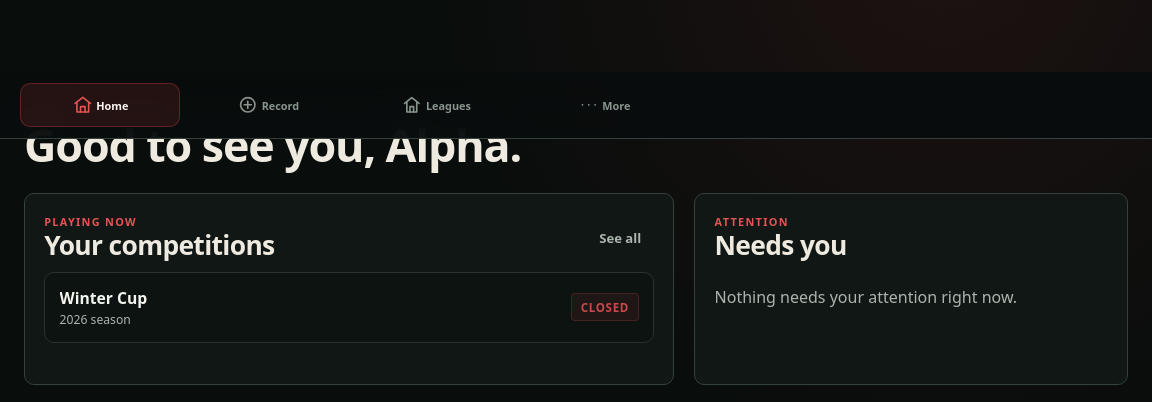
Test: club-first Record › shows a contextual empty Record state when no open assignment is eligible
Click the button "Record". click: {"x": 268, "y": 105}
box: top-left (188, 83), bottom-right (348, 127)
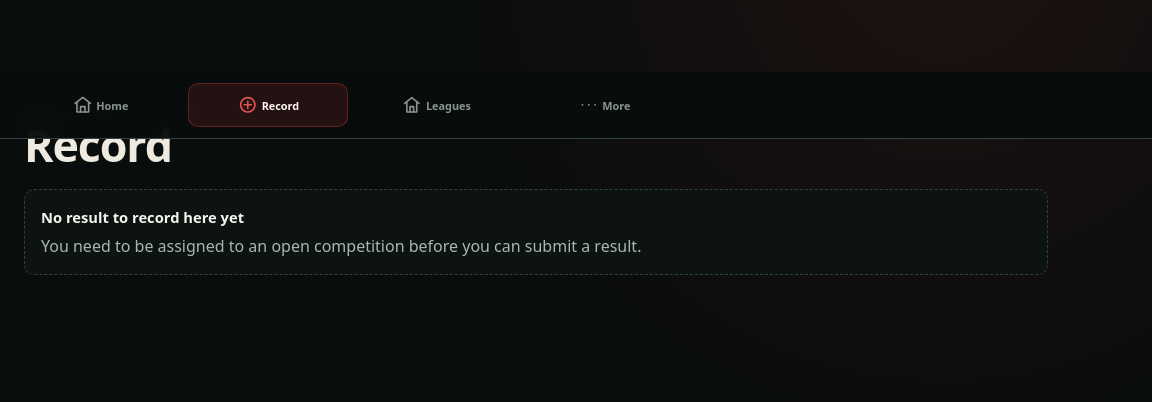
Now the text "No result to record here yet" is shown, box top-left (41, 207), bottom-right (244, 227)
